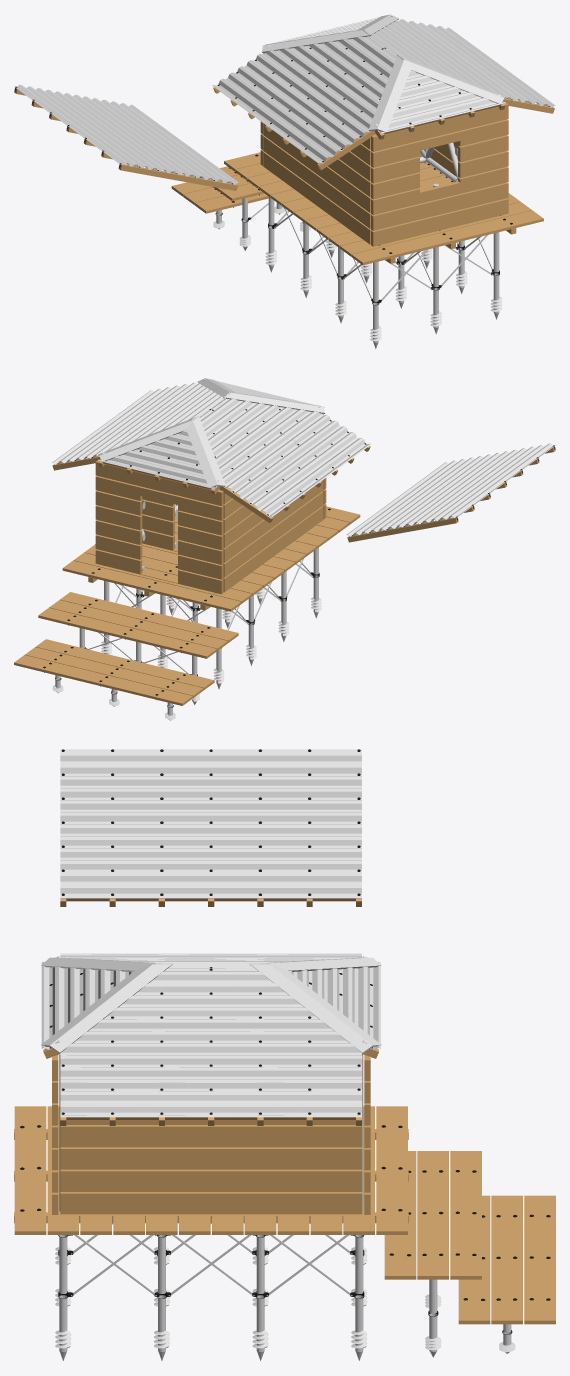
File: lamatworooms.fbx
3 renders of one model, top to bottom at view 1: azimuth 30°, elevation 25°; view 2: azimuth 150°, elevation 25°; view 3: azimuth 270°, elevation 25°, orthographic. The views are drawn at different scales.
Visible parts, largest first — view 1: screws.004, sideplanks.001, screws.005, floorboards, sideplanks, screw pile, screws, Plane, floorboards.002, crossbar.001, crossbar, floorboards.001 (+2 smaller); view 2: screws.004, sideplanks.001, screws.005, floorboards, floorboards.001, floorboards.002, sideplanks, screws, Plane, screw pile, sideplanks.002, crossbar.001; view 3: screws.005, screws.004, sideplanks, floorboards, floorboards.002, floorboards.001, screws, Plane, screw pile, crossbar.001, sideplanks.001, screw pile.001.
Boxes of the visible parts, bbox=[...] form: screws.004: bbox=[212, 19, 555, 170]; sideplanks.001: bbox=[260, 103, 508, 246]; screws.005: bbox=[14, 84, 238, 190]; floorboards: bbox=[224, 152, 543, 265]; sideplanks: bbox=[263, 123, 458, 244]; screw pile: bbox=[265, 197, 502, 348]; screws: bbox=[262, 15, 505, 139]; Plane: bbox=[261, 14, 505, 132]; floorboards.002: bbox=[171, 182, 268, 213]; crossbar.001: bbox=[272, 208, 493, 301]; crossbar: bbox=[273, 211, 494, 302]; floorboards.001: bbox=[199, 166, 264, 201]; screws.004: bbox=[52, 382, 371, 522]; sideplanks.001: bbox=[95, 460, 326, 594]; screws.005: bbox=[346, 443, 555, 542]; floorboards: bbox=[62, 506, 360, 611]; floorboards.001: bbox=[38, 592, 238, 658]; floorboards.002: bbox=[14, 639, 214, 705]; sideplanks: bbox=[176, 480, 323, 592]; screws: bbox=[98, 379, 324, 494]; Plane: bbox=[98, 378, 325, 488]; screw pile: bbox=[101, 547, 321, 689]; sideplanks.002: bbox=[141, 496, 177, 551]; crossbar.001: bbox=[115, 558, 315, 630]; screws.005: bbox=[60, 749, 361, 906]; screws.004: bbox=[60, 953, 361, 1125]; sideplanks: bbox=[60, 1057, 362, 1214]; floorboards: bbox=[14, 1106, 407, 1234]; floorboards.002: bbox=[458, 1195, 555, 1324]; floorboards.001: bbox=[384, 1151, 481, 1279]; screws: bbox=[41, 956, 380, 1058]; Plane: bbox=[41, 957, 381, 1053]; screw pile: bbox=[55, 1235, 367, 1360]; crossbar.001: bbox=[68, 1223, 355, 1296]; sideplanks.001: bbox=[52, 1055, 370, 1214]; screw pile.001: bbox=[425, 1279, 441, 1357].
Bounding box in the file's own units: 8670 × 4791 × 6593.
